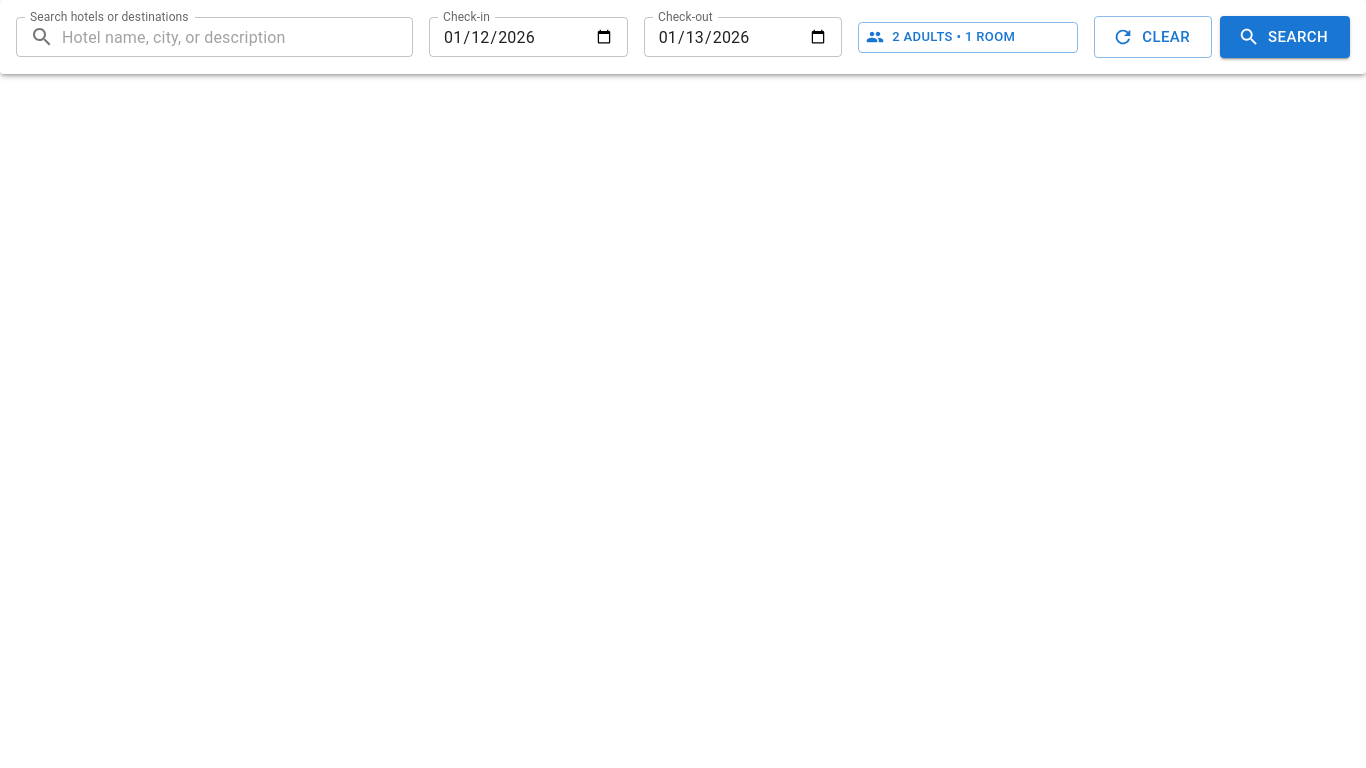
HomeSearchBar › opens guest/room selector popover
Click the button "2 adults • 1 room": coordinates (968, 37) top-left (858, 22), bottom-right (1078, 53)
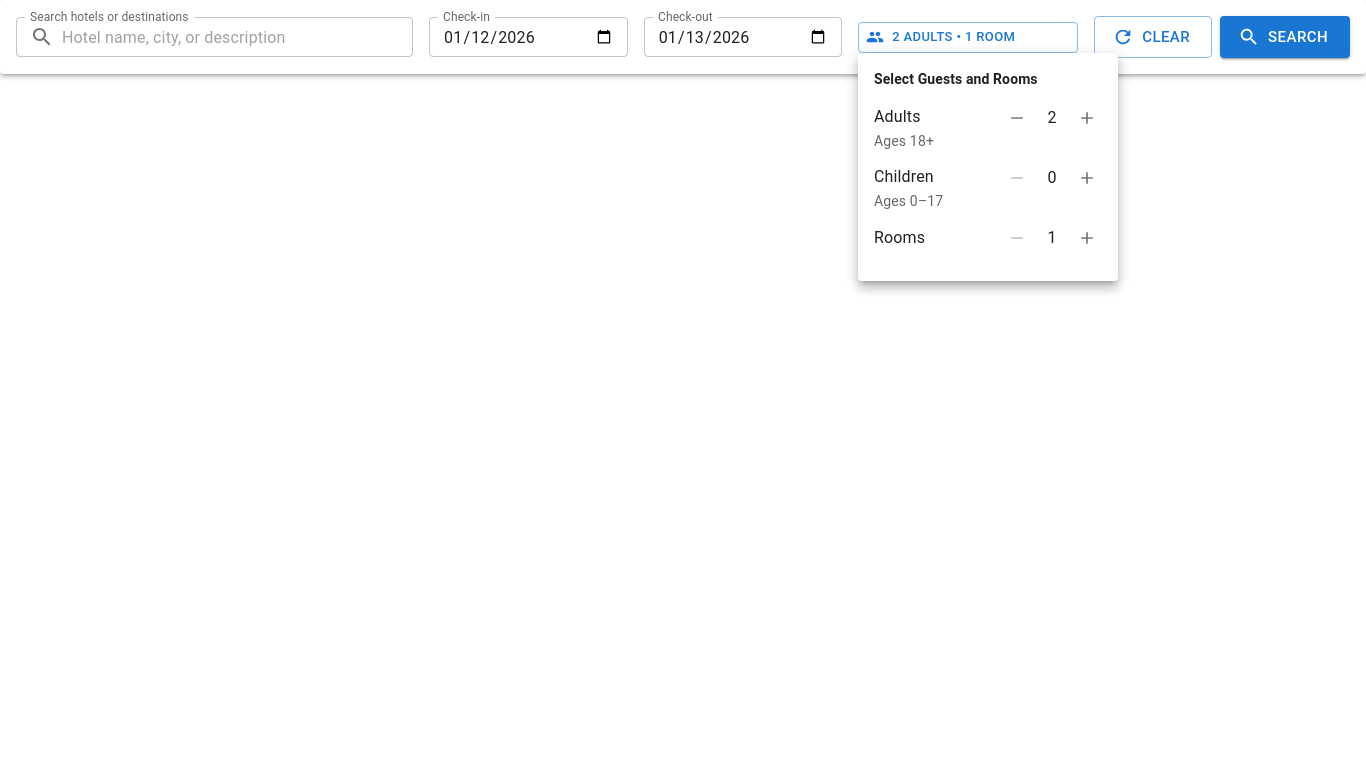
Result: the dialog is shown at top-left (858, 53), bottom-right (1118, 281)
Result: the heading "Select Guests and Rooms" is shown at top-left (874, 71), bottom-right (1038, 87)
Result: the heading "Adults" is shown at top-left (874, 107), bottom-right (921, 126)
